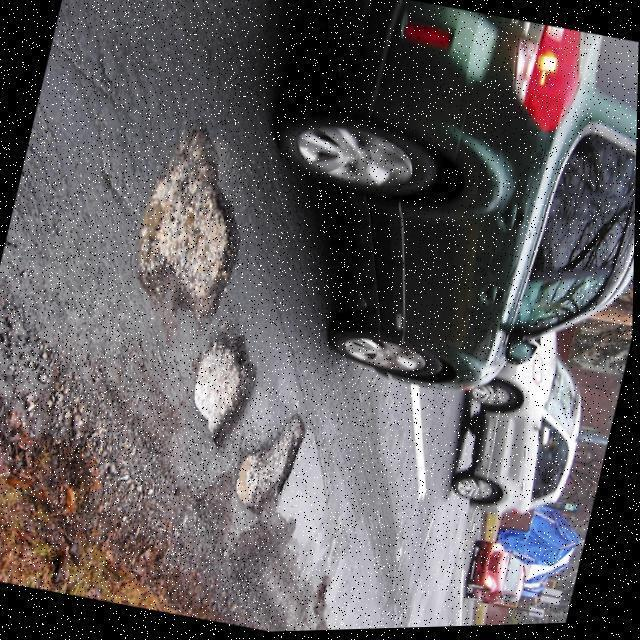Pothole: (131, 114, 241, 329), (185, 326, 259, 447), (230, 409, 311, 519)
